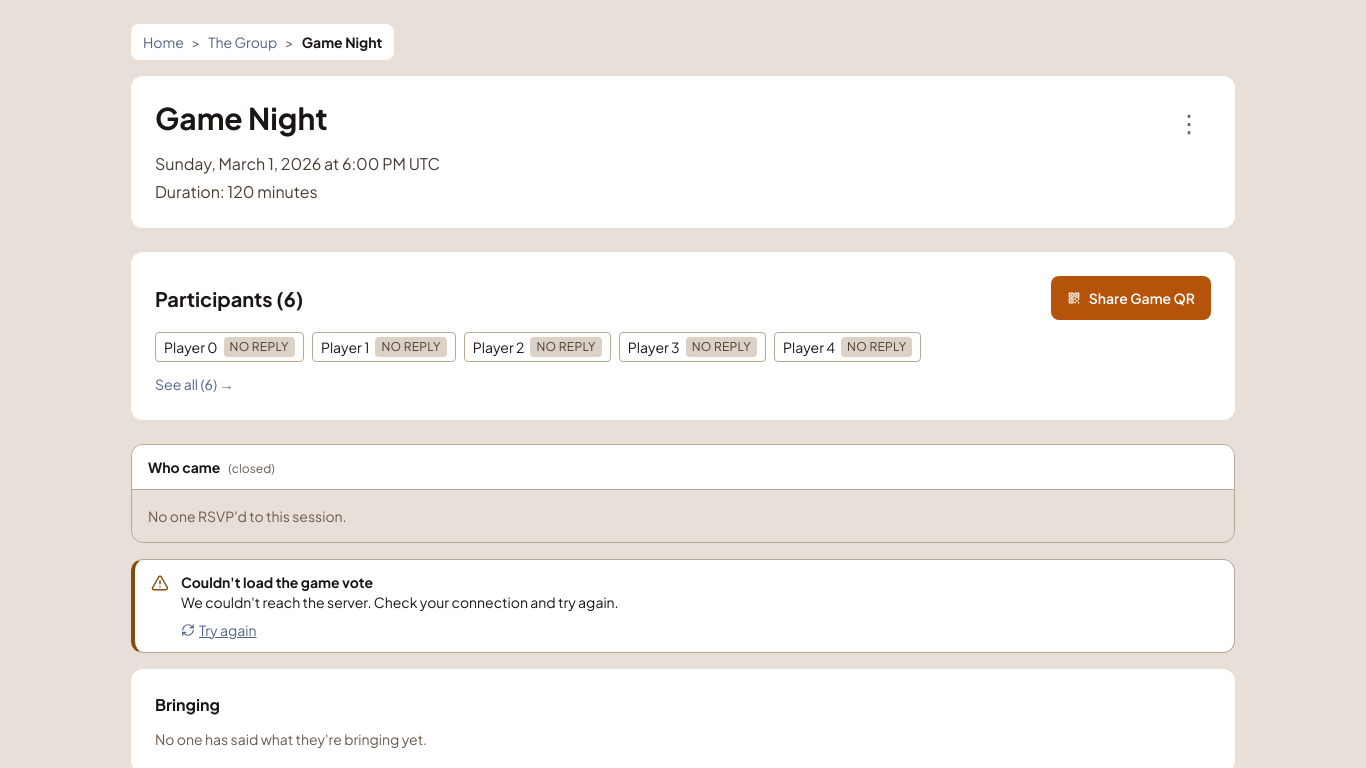
Test case: gameDetail overlays are Modal-hosted (Req 9) › closes the participants list on Esc
Click the button "See all (6) →": click(194, 384) left=155, top=374, right=234, bottom=394
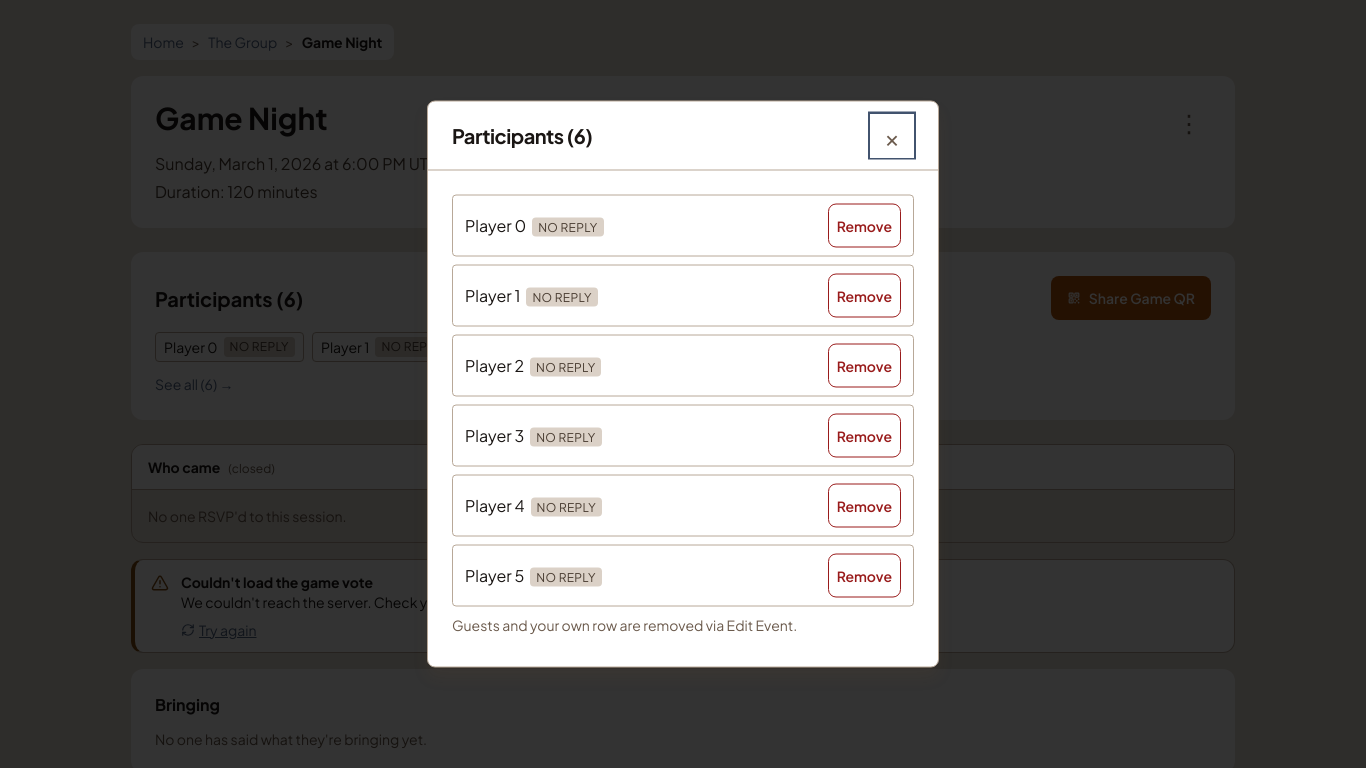
Press Escape
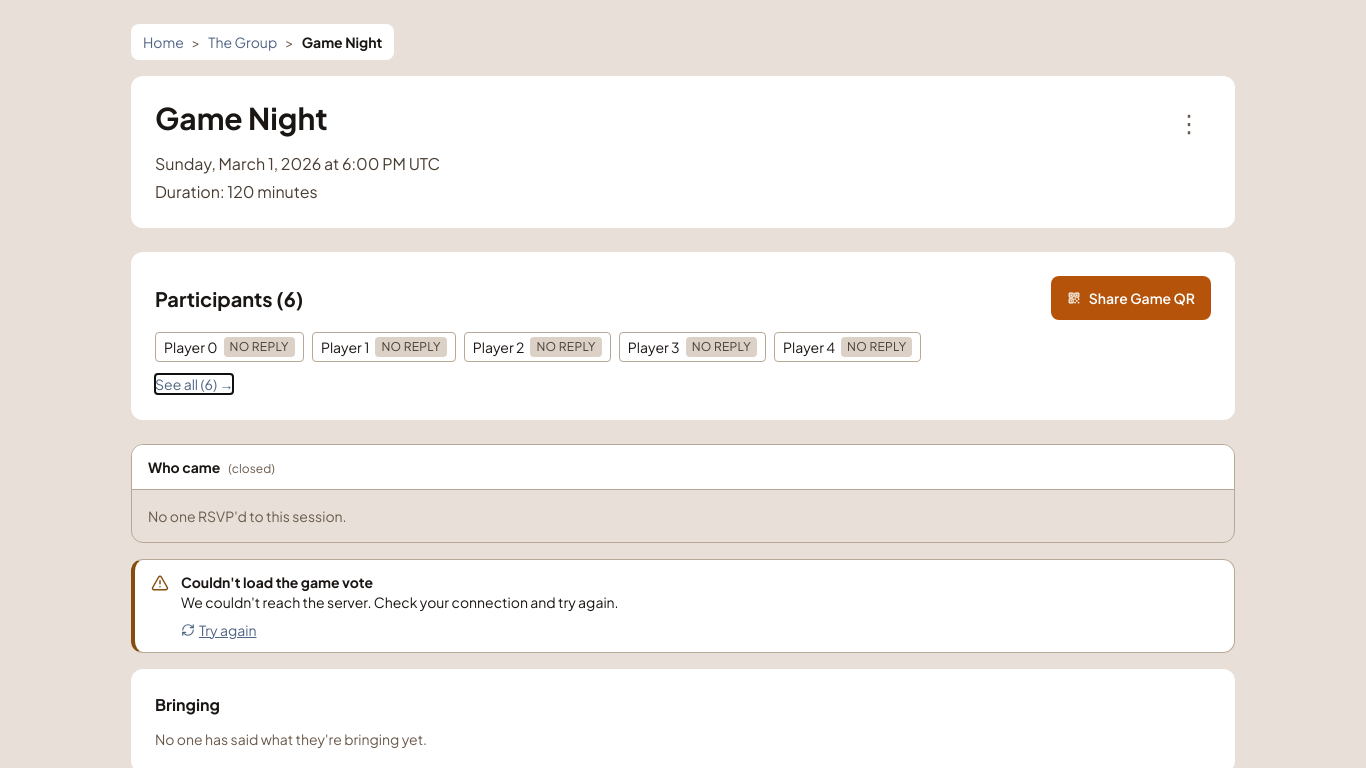
Now the dialog is gone
